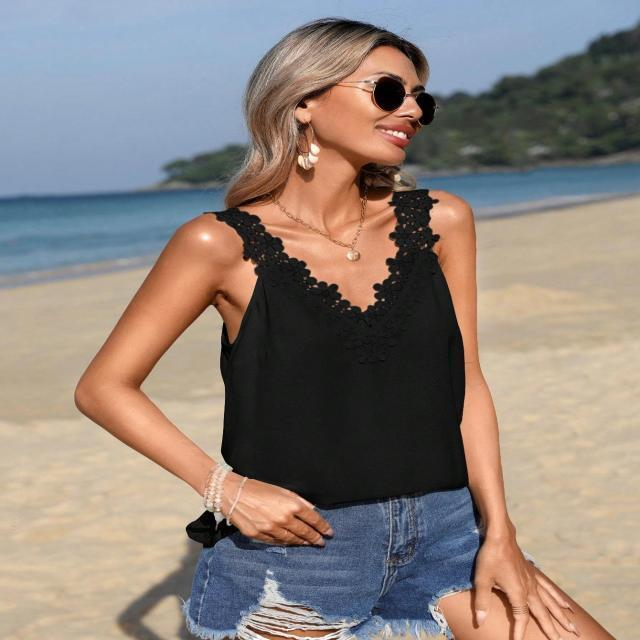Earring: (286, 124, 328, 182)
